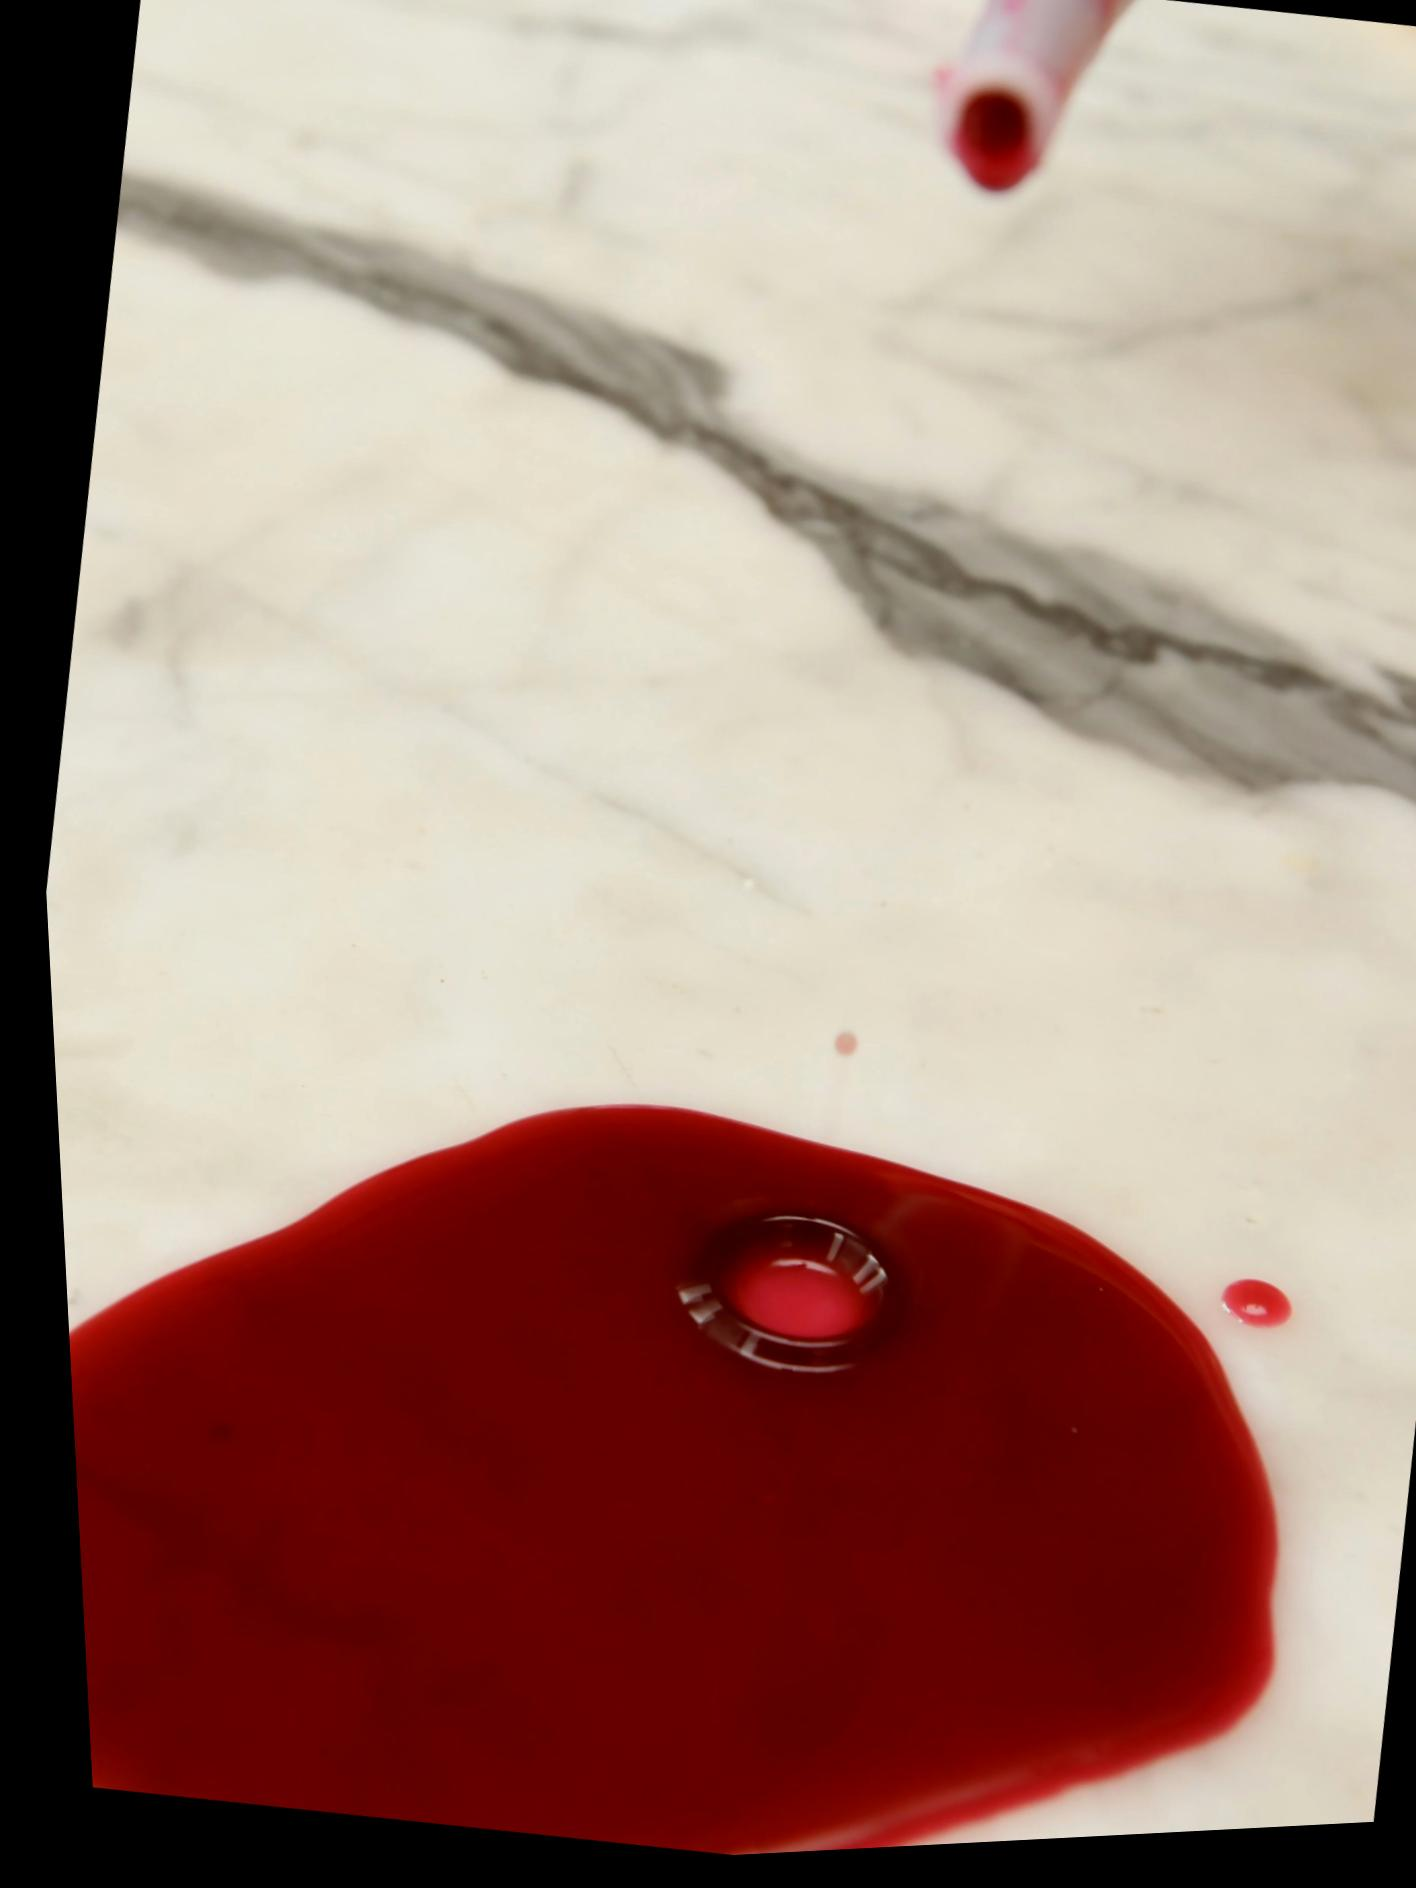Fire: (54, 1109, 1260, 1863), (1206, 1290, 1276, 1341)
